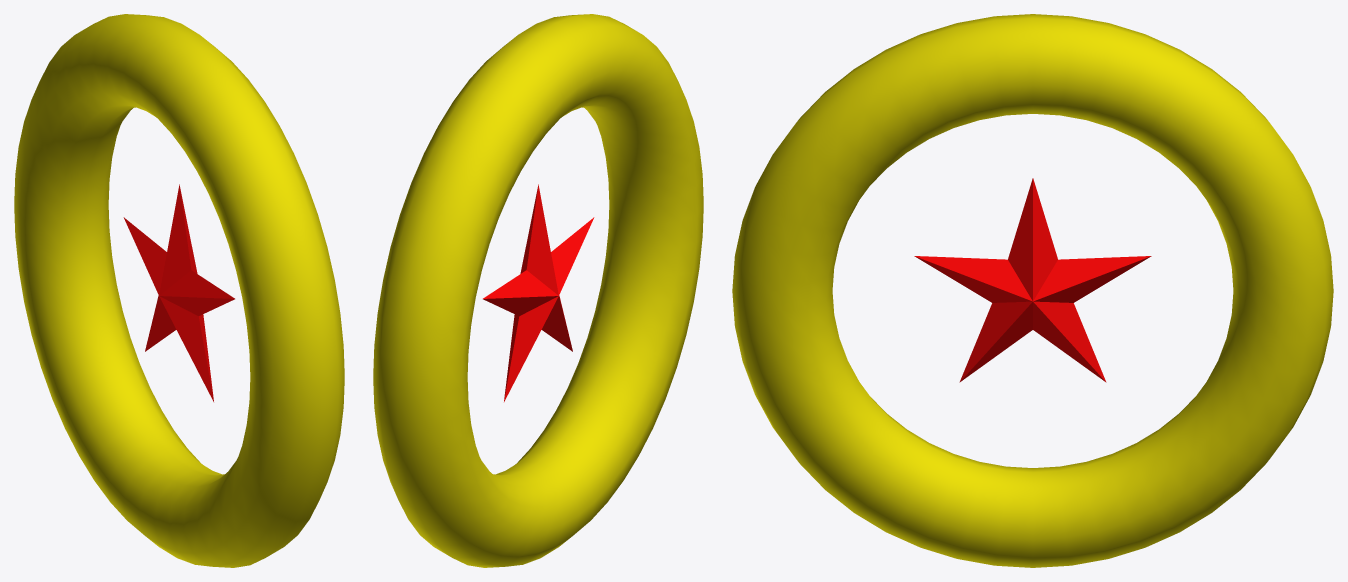
Rendered from goalRing.fbx.
3 renders of one model, left to right at view 1: azimuth 30°, elevation 25°; view 2: azimuth 150°, elevation 25°; view 3: azimuth 270°, elevation 25°, orthographic. The views are drawn at different scales.
Parts seen in each view (by area): view 1: Ring, Star; view 2: Ring, Star; view 3: Ring, Star.
Part boxes in pixels (x1=…): Ring: x1=14, y1=14, x2=344, y2=567; Star: x1=123, y1=184, x2=234, y2=401; Ring: x1=373, y1=14, x2=703, y2=567; Star: x1=483, y1=184, x2=594, y2=401; Ring: x1=732, y1=14, x2=1333, y2=567; Star: x1=914, y1=178, x2=1151, y2=382.
Size of the model in its own units: 40 by 240 by 240.
